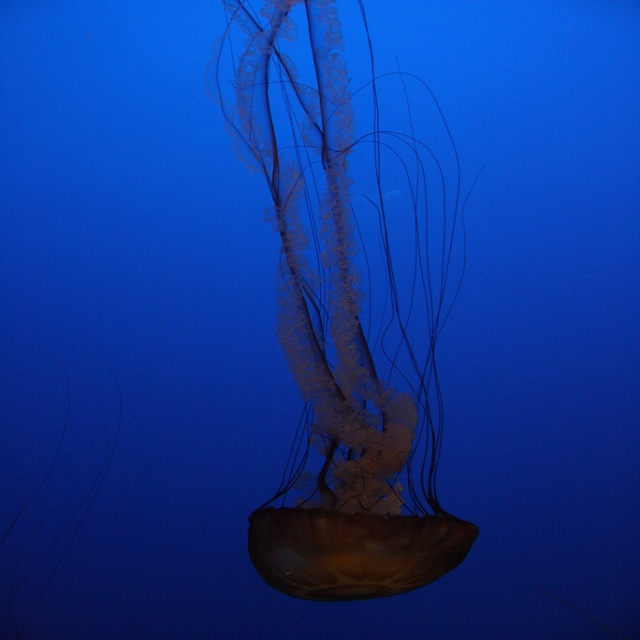Jellyfish: (176, 3, 512, 632)
